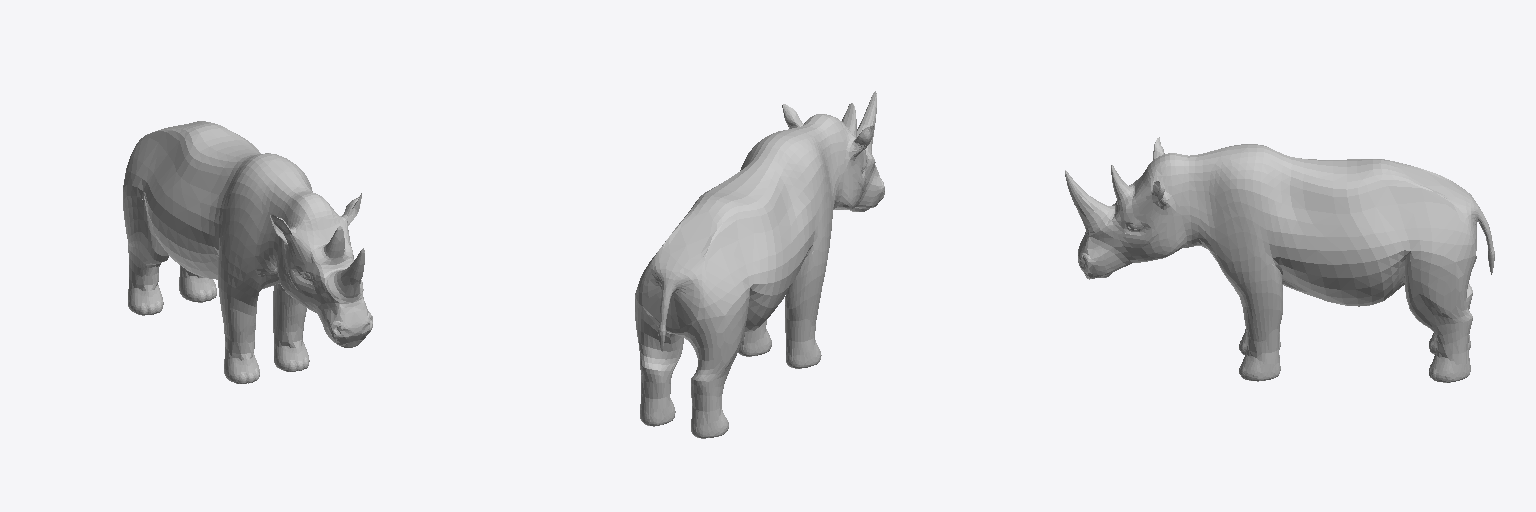
Rendered from RHINO_2.OBJ.
3 renders of one model, left to right at view 1: azimuth 30°, elevation 25°; view 2: azimuth 150°, elevation 25°; view 3: azimuth 270°, elevation 25°, orthographic.
Parts seen in each view (by area): view 1: rhn2_body; view 2: rhn2_body; view 3: rhn2_body.
Boxes of the visible parts, x1=… form: rhn2_body: x1=123, y1=121, x2=372, y2=383; rhn2_body: x1=635, y1=91, x2=884, y2=438; rhn2_body: x1=1065, y1=137, x2=1494, y2=382.
Size of the model in its own units: 1.04 by 1.95 by 3.51.